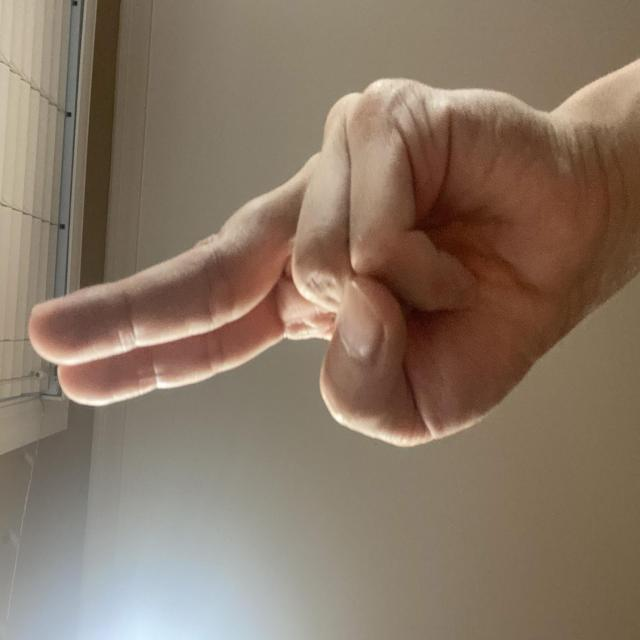U: (132, 29, 430, 640)
